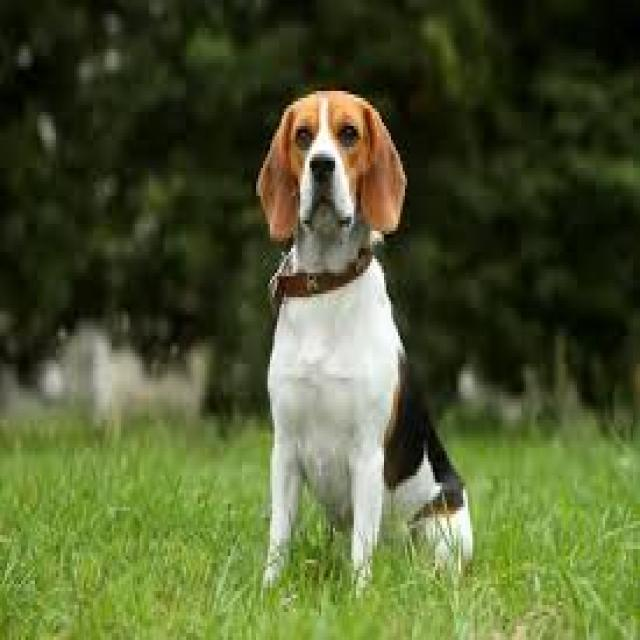Dog: (254, 83, 476, 594)
